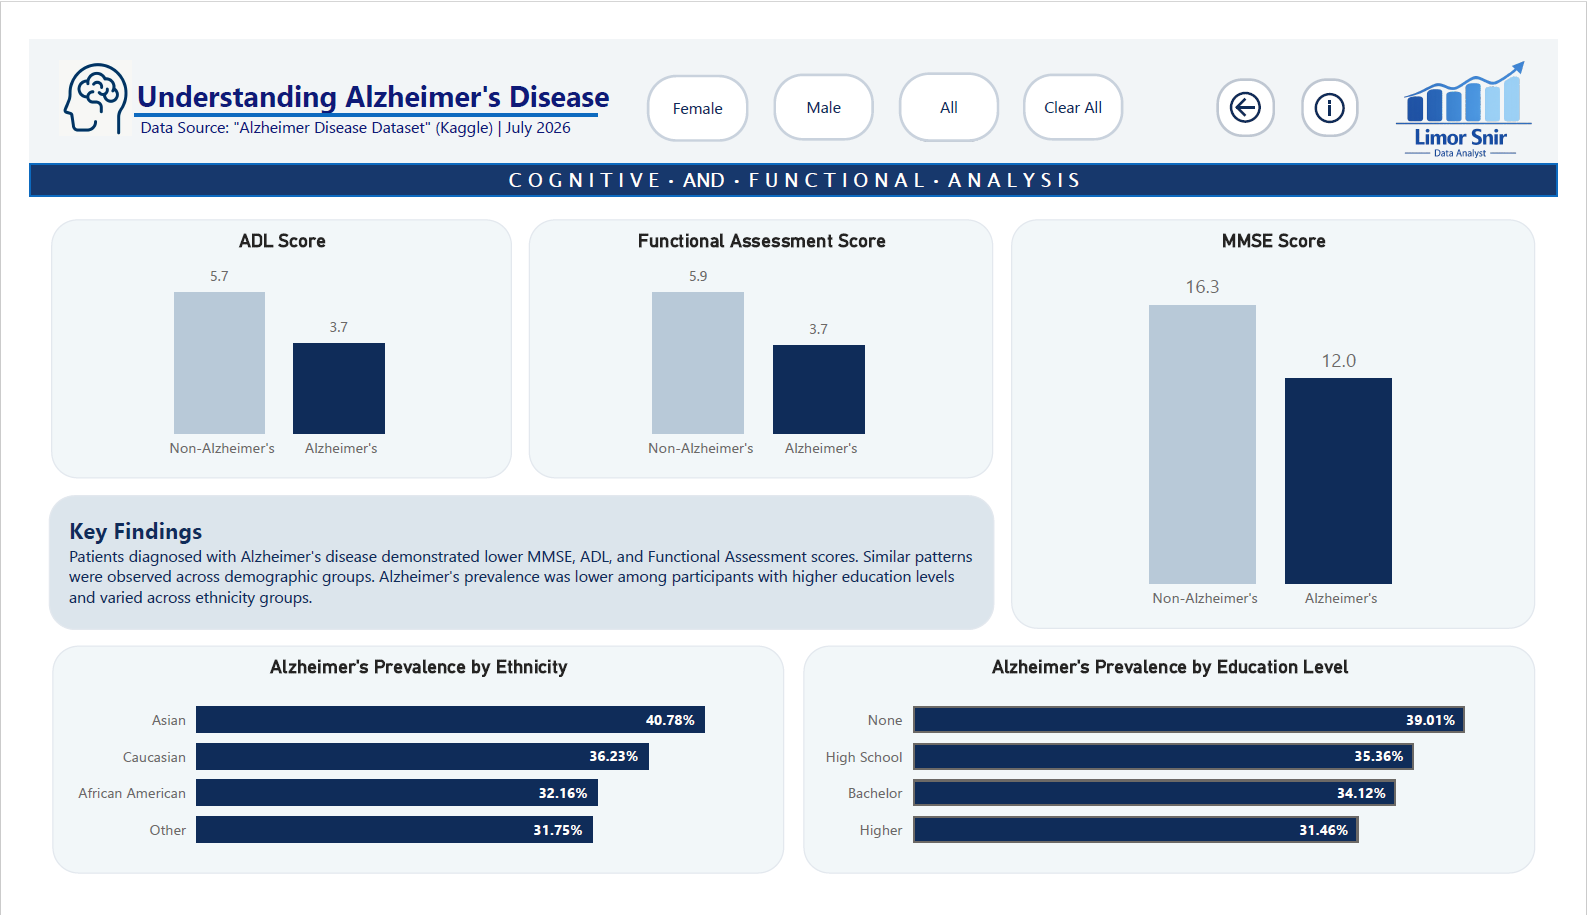

Layout of this report page (visuals, bound fields, positions):
{"tool":"powerbi","page":{"name":"Data Analysis","canvas":[1280,720],"ordinal":2},"visuals":[{"type":"textbox","title":"main TITLE","box":[0,7.1,1280,108.3],"z":0},{"type":"shape","title":"Title Line","box":[0,79.8,1280,69.8],"z":1000},{"type":"shape","title":"General Legend","box":[87.7,0,388.2,140.5],"z":2000},{"type":"actionButton","box":[994.2,40.4,48.9,48.9],"z":3000},{"type":"actionButton","box":[1065.1,40.4,48,48.9],"z":4000},{"type":"image","box":[1129.7,18.1,141.9,93.2],"z":5000},{"type":"shape","box":[517.3,36.7,84.4,56.3],"z":6000},{"type":"actionButton","box":[728.8,36.2,82.4,56.4],"z":8000},{"type":"shape","box":[622.8,36,84,56.4],"z":9000},{"type":"image","title":"Alz IMAGE","box":[15.9,19.6,78.3,73.4],"z":10000},{"type":"shape","title":"Page Title","box":[0,110.9,1280,28.4],"z":11000},{"type":"clusteredColumnChart","title":"Functional Assessment  Score","fields":{"Y":["Avg(alzheimers_disease_data.FunctionalAssessment)"],"Category":["alzheimers_disease_data.Diagnosis Labels"]},"box":[418.2,157.7,388.9,217.7],"z":13000},{"type":"clusteredColumnChart","title":"ADL Score","fields":{"Y":["Avg(alzheimers_disease_data.ADL)"],"Category":["alzheimers_disease_data.Diagnosis Labels"]},"box":[18.3,157.7,385.2,217.7],"z":14000},{"type":"clusteredColumnChart","title":"MMSE Score","fields":{"Category":["alzheimers_disease_data.Diagnosis Labels"],"Y":["Avg(alzheimers_disease_data.MMSE)"]},"box":[821.7,157.6,439.4,343.8],"z":15000},{"type":"clusteredBarChart","title":"Alzheimer''s Prevalence by Ethnicity ","fields":{"Category":["alzheimers_disease_data.Ethnicity"],"Y":["!measures.% Alzheimer by Ethnicity"]},"box":[18.6,515.1,613.2,191.2],"z":16000},{"type":"clusteredBarChart","title":"Alzheimer''s Prevalence by Education Level","fields":{"Category":["alzheimers_disease_data.Education"],"Y":["!measures.% Alzheimer by Education"]},"box":[648,515.1,613.2,191.2],"z":17000},{"type":"textbox","box":[15.9,389,792.4,112.8],"z":18000},{"type":"actionButton","box":[831.7,36,84,56],"z":19000},{"type":"actionButton","box":[727.6,35.5,84.4,57.5],"z":24000}]}

Visuals, with their boxes in screenshot pixels (x1, y1, x2, y2), scaled from the page's 1280x720 canvas onto the 1587x915 screenshot:
"main TITLE" textbox: crop(0, 9, 1586, 147)
"Title Line" shape: crop(0, 101, 1586, 190)
"General Legend" shape: crop(109, 0, 590, 179)
actionButton: crop(1233, 51, 1293, 113)
actionButton: crop(1321, 51, 1380, 113)
image: crop(1401, 23, 1577, 141)
shape: crop(641, 47, 746, 118)
actionButton: crop(904, 46, 1006, 118)
shape: crop(772, 46, 876, 117)
"Alz IMAGE" image: crop(20, 25, 117, 118)
"Page Title" shape: crop(0, 141, 1586, 177)
"Functional Assessment  Score" clusteredColumnChart: crop(519, 200, 1001, 477)
"ADL Score" clusteredColumnChart: crop(23, 200, 500, 477)
"MMSE Score" clusteredColumnChart: crop(1019, 200, 1564, 637)
"Alzheimer''s Prevalence by Ethnicity " clusteredBarChart: crop(23, 655, 783, 898)
"Alzheimer''s Prevalence by Education Level" clusteredBarChart: crop(803, 655, 1564, 898)
textbox: crop(20, 494, 1002, 638)
actionButton: crop(1031, 46, 1135, 117)
actionButton: crop(902, 45, 1007, 118)
